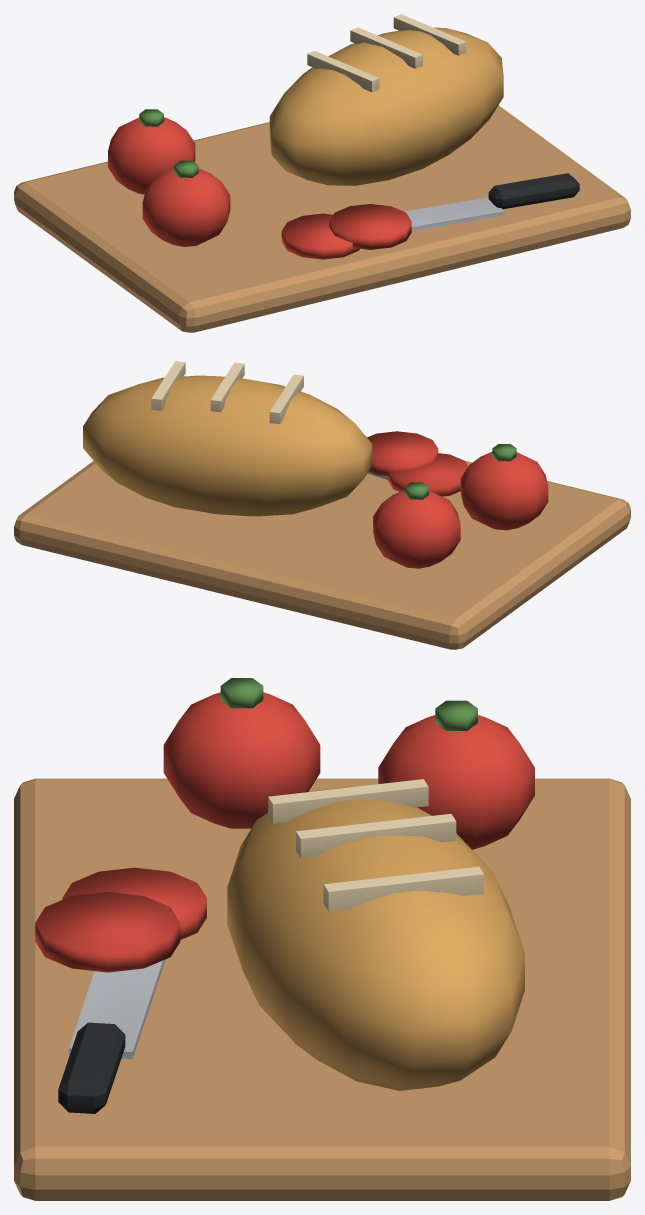
Rendered from cuttingBoard.glb.
3 renders of one model, top to bottom at view 1: azimuth 30°, elevation 25°; view 2: azimuth 150°, elevation 25°; view 3: azimuth 270°, elevation 25°, orthographic. The views are drawn at different scales.
Parts seen in each view (by area): view 1: cuttingBoard; view 2: cuttingBoard; view 3: cuttingBoard.
Boxes of the visible parts, x1,y1,x2,y2 form: cuttingBoard: (14,14,630,332); cuttingBoard: (14,361,630,649); cuttingBoard: (14,678,630,1200).
Bounding box in the file's own units: 0.34 × 0.1062 × 0.23.
